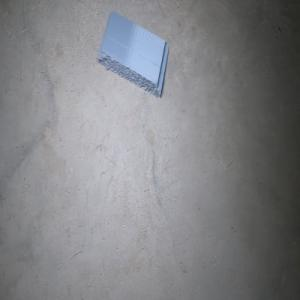PlasticPart: (96, 10, 169, 98)
